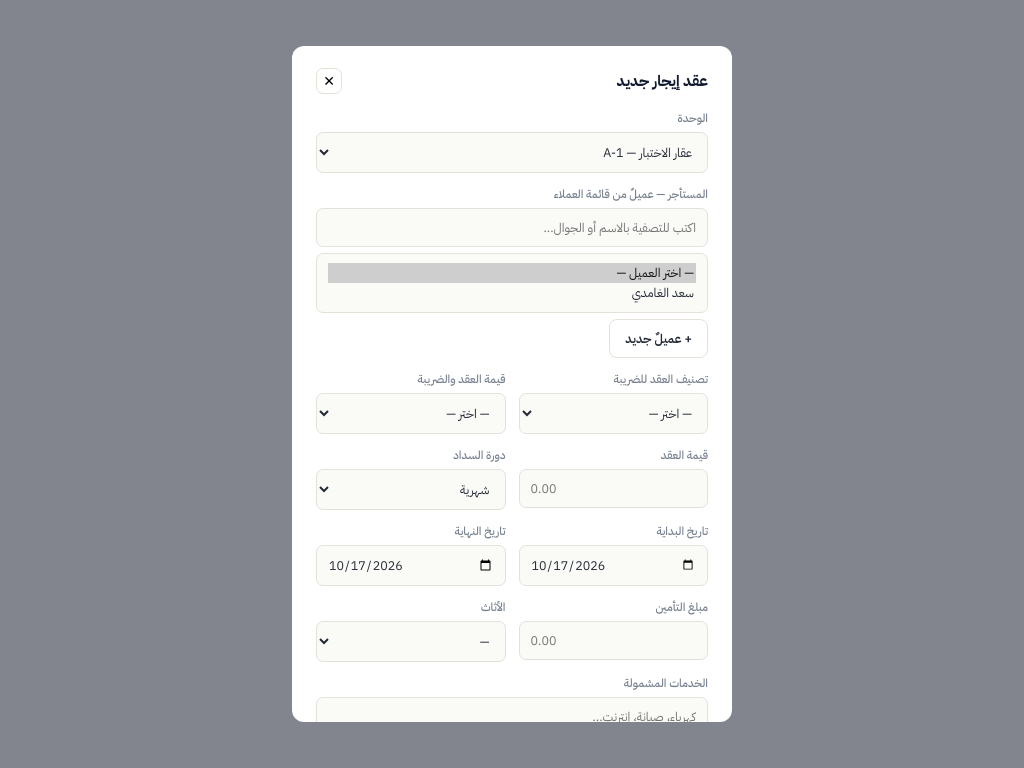
Scenario: نموذجُ العقد — منتقي العميل › ② بلا عميلٍ مختار لا يُرسَل شيء
Type "12000" into the field with placeholder "0.00" below "دورة السداد" at (613, 489), box [518,469,708,508]
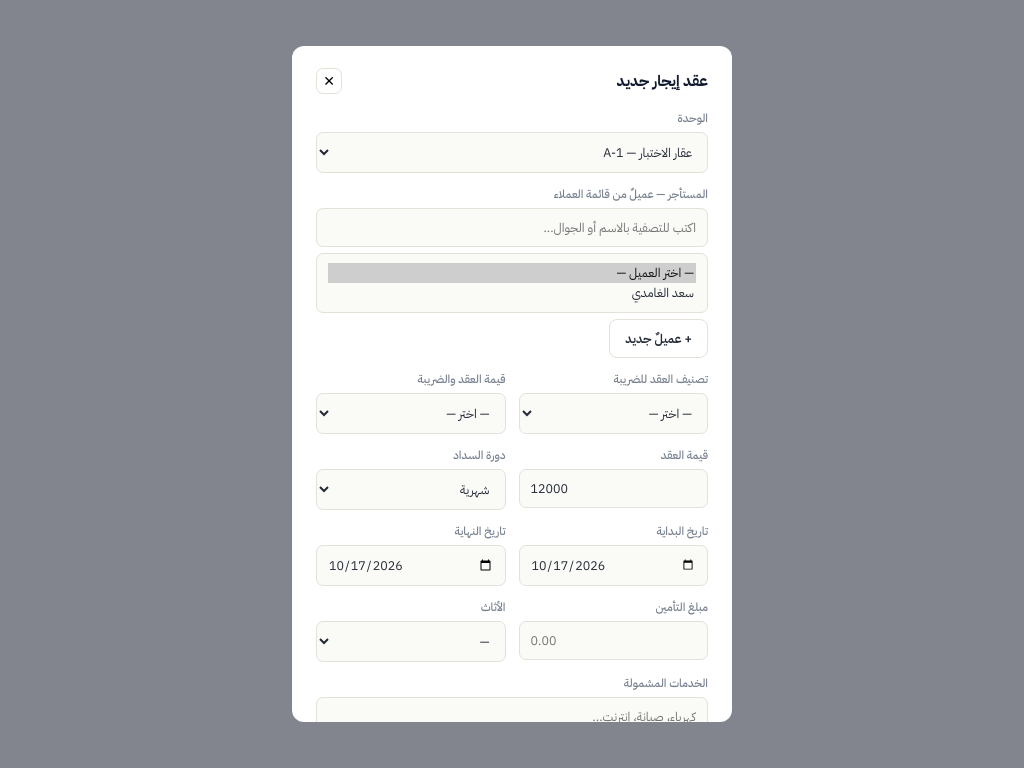
Select "تجاري — خاضع للضريبة" in the dropdown below "تصنيف العقد للضريبة" at (613, 414), box [518,393,708,434]
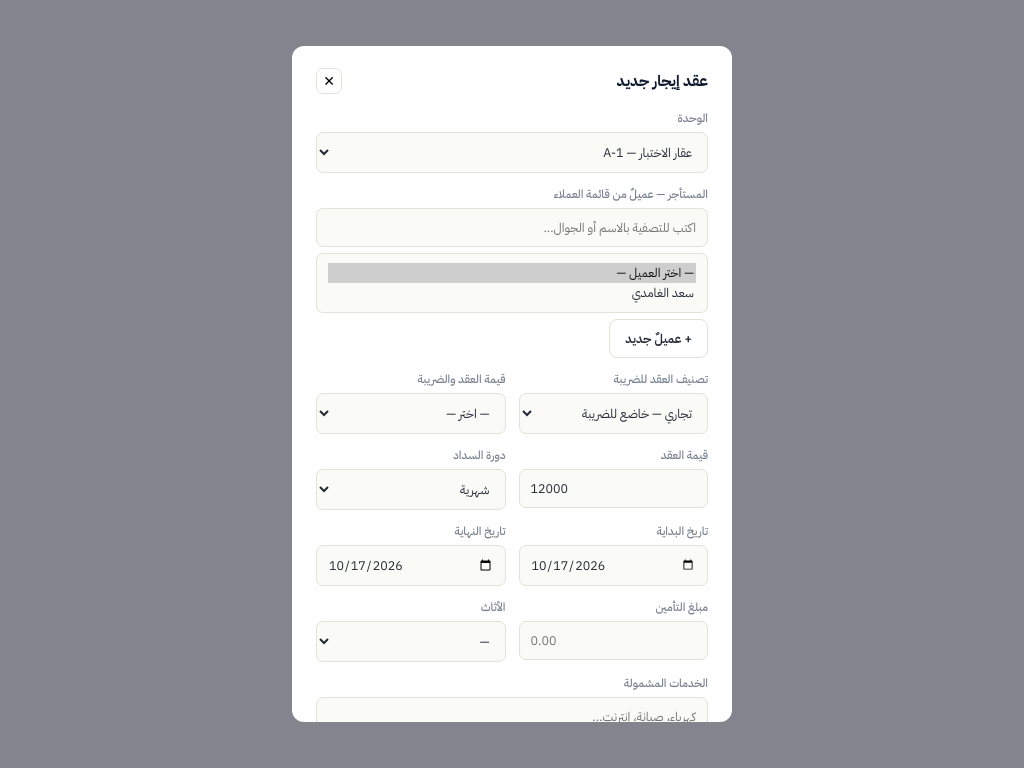
Select "غير شاملة للضريبة" in the dropdown below "قيمة العقد والضريبة" at (411, 414), box [316,393,506,434]
(page scrolled)
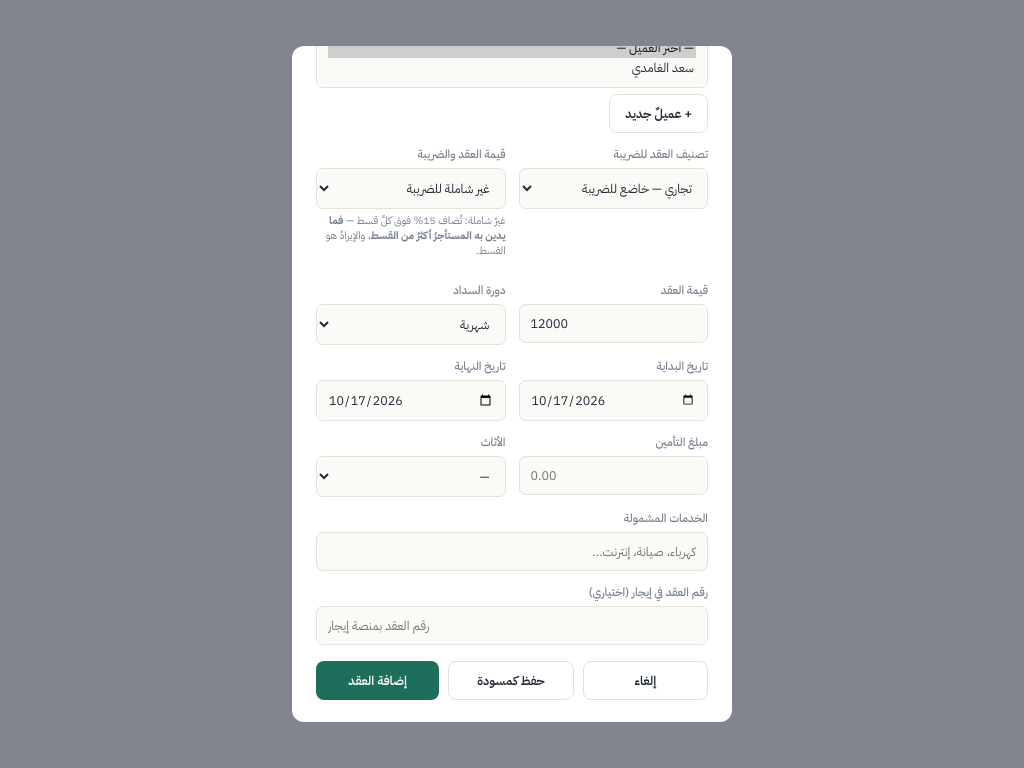
Click the button "إضافة العقد" at (378, 680), box [316,661,439,700]
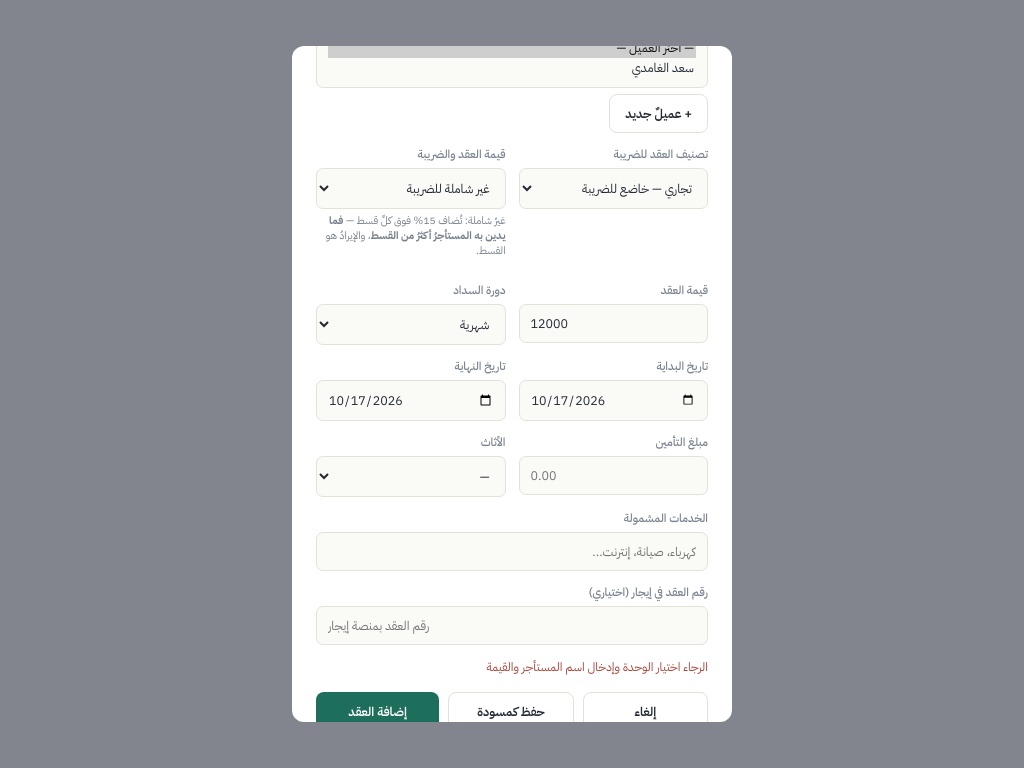
Expected: the text "الرجاء اختيار الوحدة وإدخال اسم المستأجر والقيمة" is shown, [487,658,708,676]
